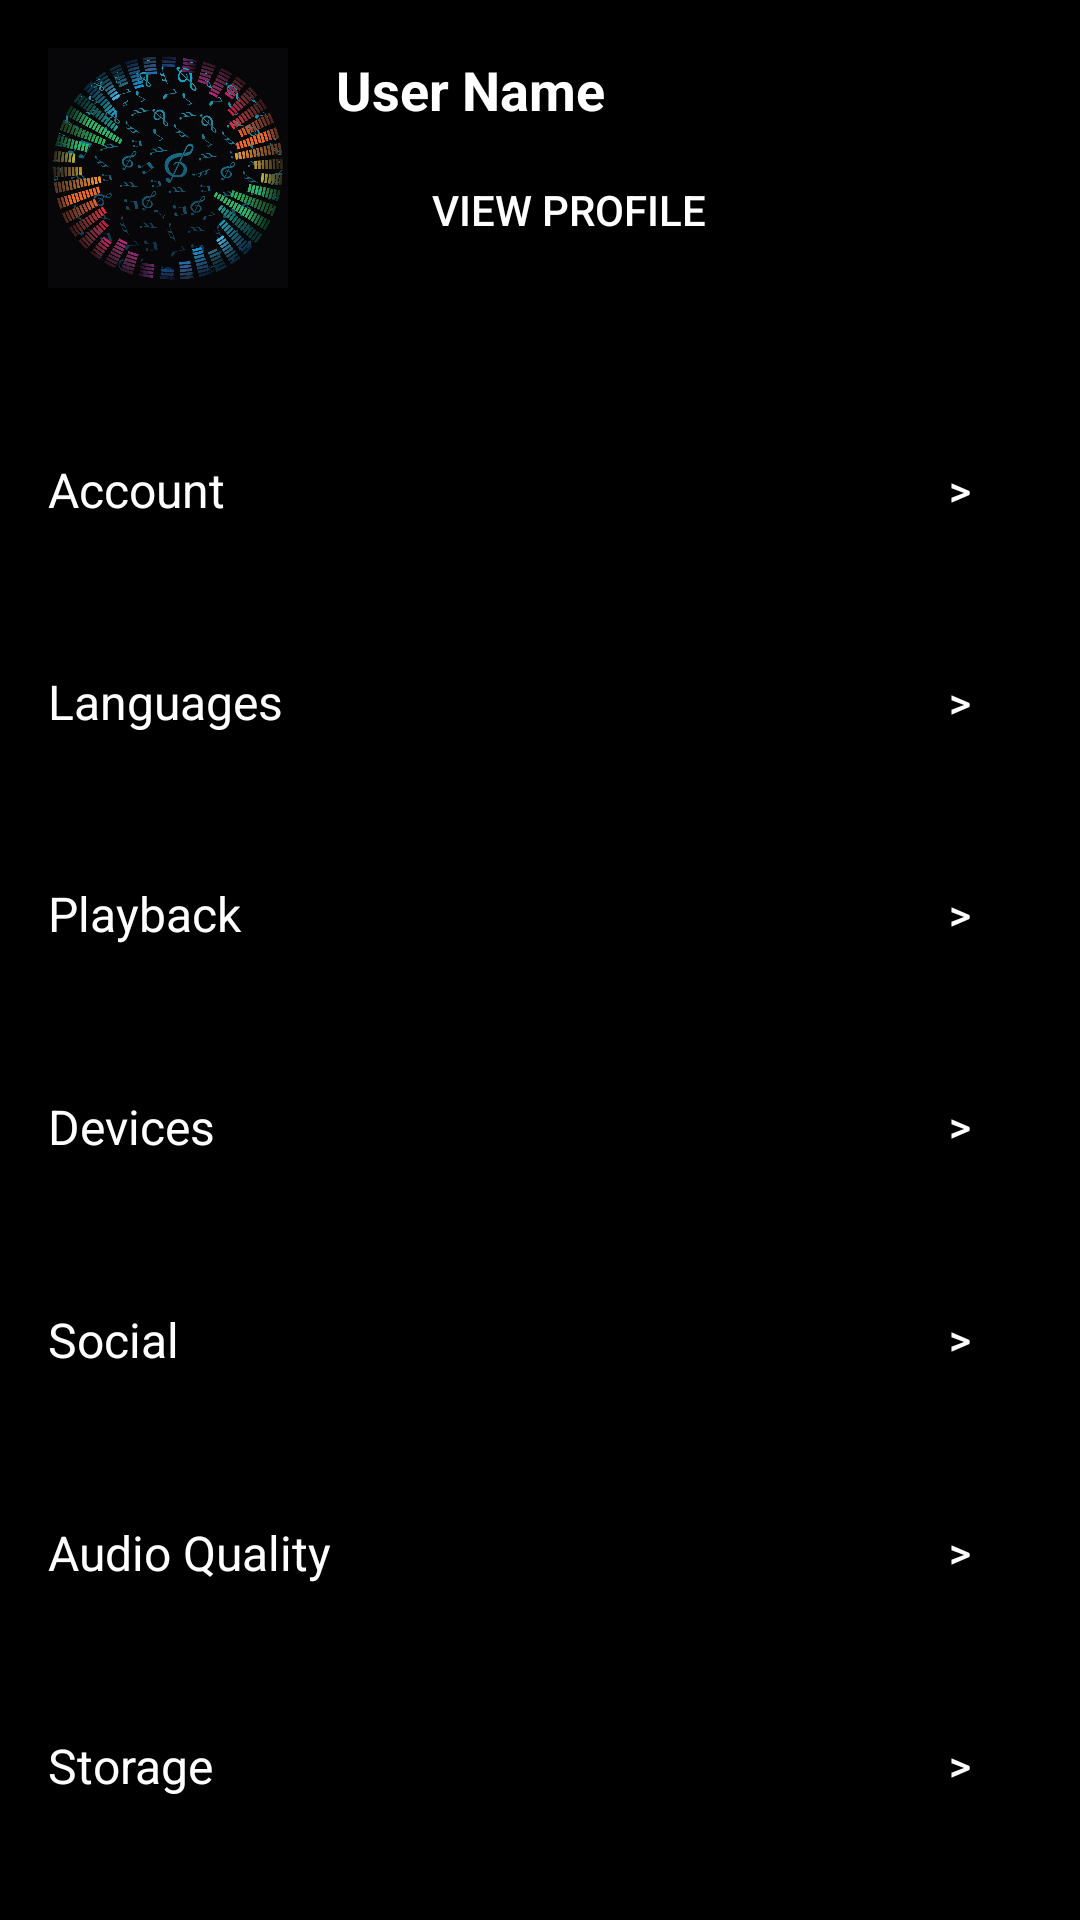

Point at icon controls on the screen. Image size 1080px×1920px, points as (x=x, y=y).
Avatar: (x=168, y=167)
